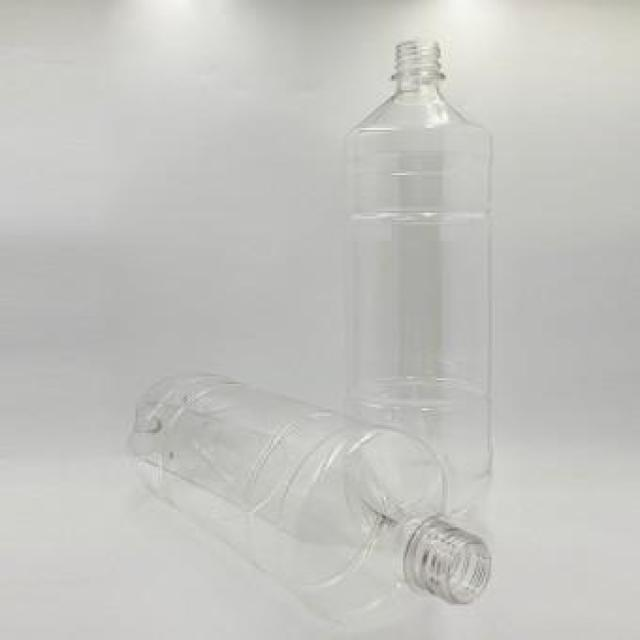bottle: (126, 369, 493, 625), (337, 41, 493, 482)
